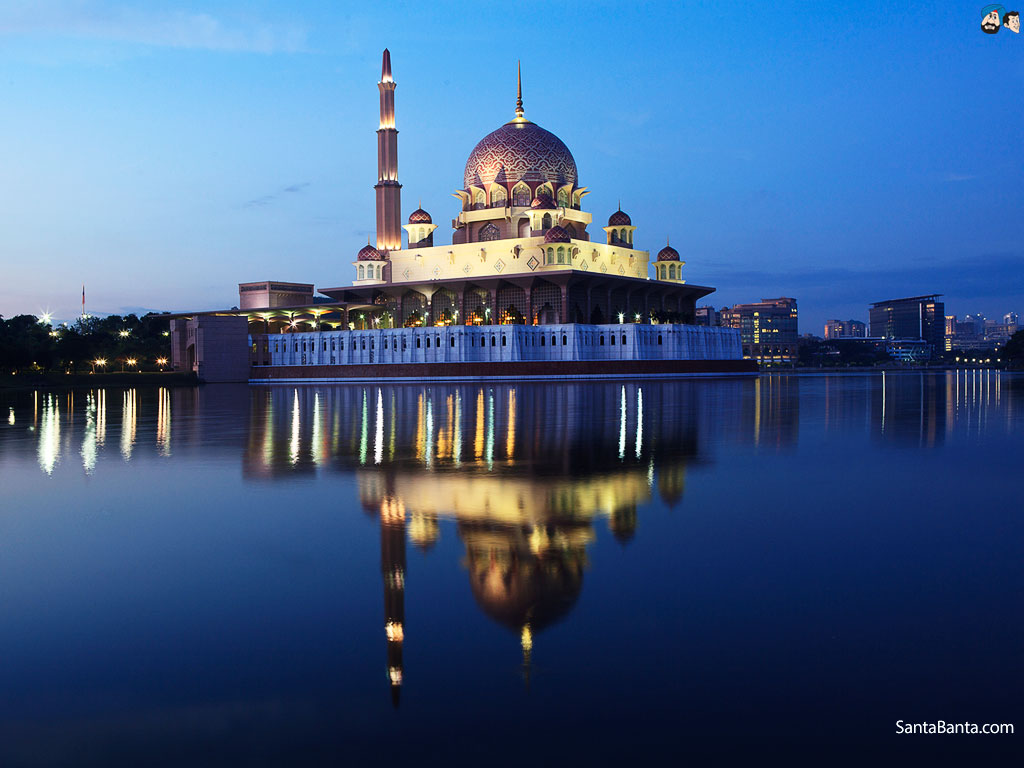Mosque: (360, 40, 698, 369)
